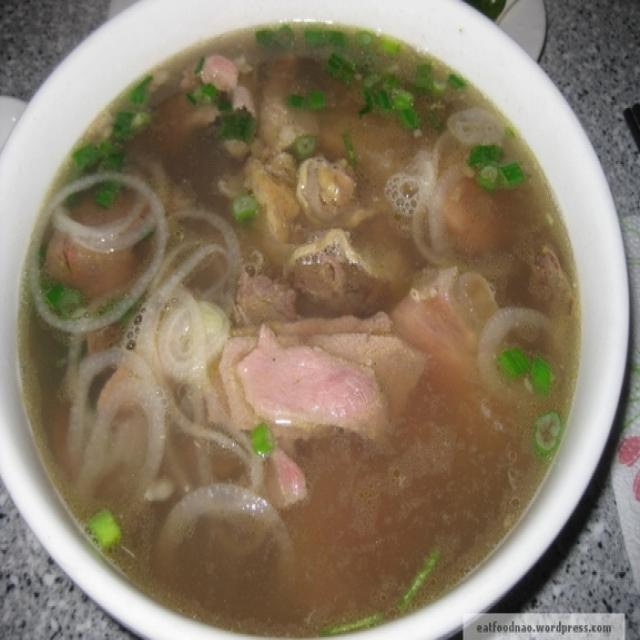面条主食: (20, 27, 608, 620)
